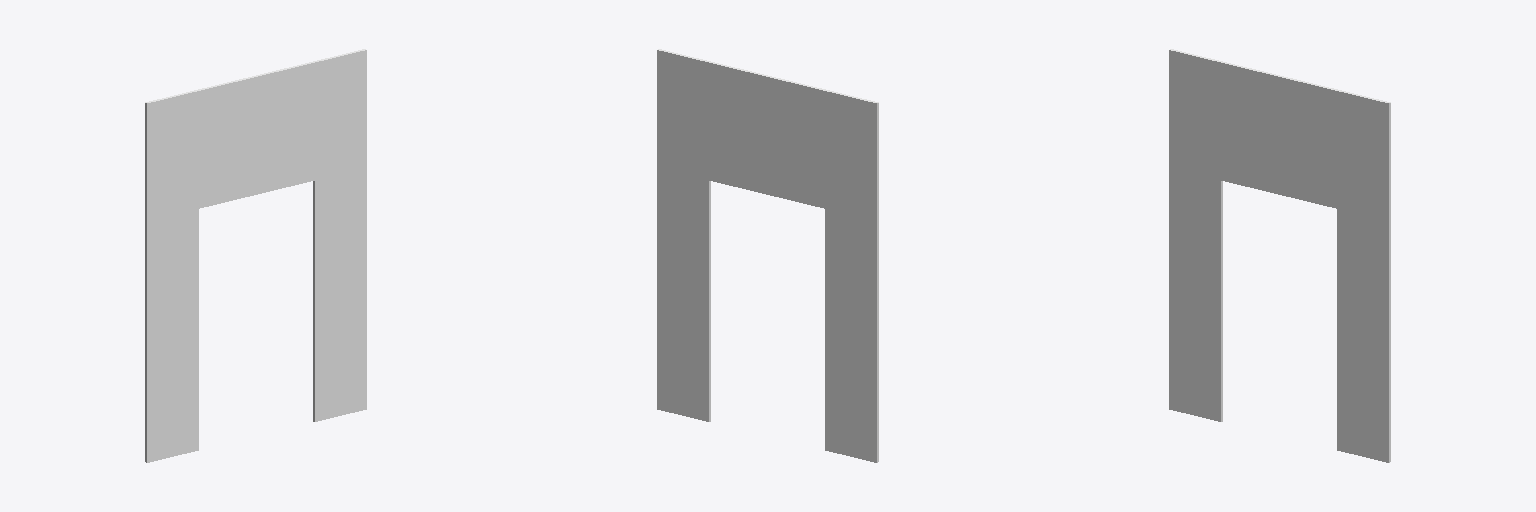
File: paredAzulhueco1.obj
3 views of the same model, side by side, from view 1: azimuth 30°, elevation 25°; view 2: azimuth 150°, elevation 25°; view 3: azimuth 330°, elevation 25° (orthographic).
Visible parts, largest first — view 1: object 1; view 2: object 1; view 3: object 1.
Boxes of the visible parts, x1=… form: object 1: x1=145, y1=49, x2=366, y2=462; object 1: x1=657, y1=49, x2=878, y2=462; object 1: x1=1169, y1=49, x2=1390, y2=462.
Bounding box in the file's own units: 8 × 12.5 × 0.1.